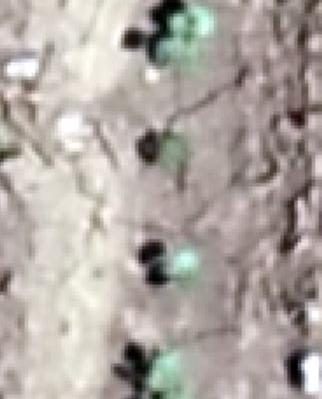cotton: (170, 13, 213, 35), (160, 40, 198, 64), (160, 138, 188, 169), (169, 252, 197, 278), (151, 354, 181, 376), (159, 374, 180, 399), (167, 244, 194, 263)
